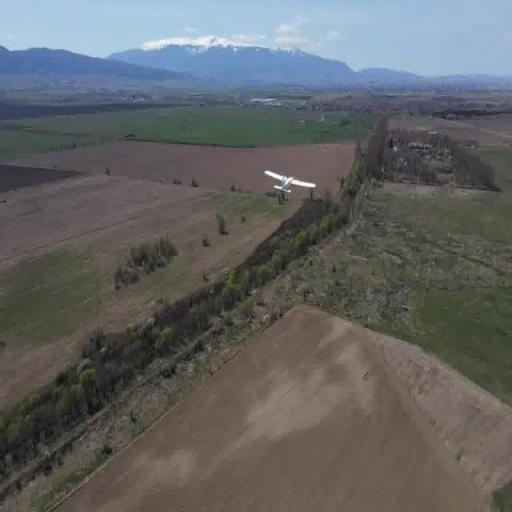uav: (261, 168, 319, 203)
